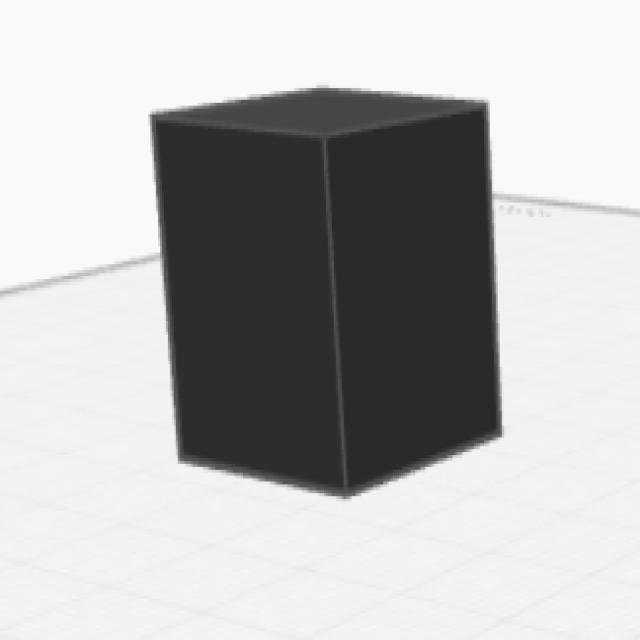cube: (146, 84, 504, 502)
